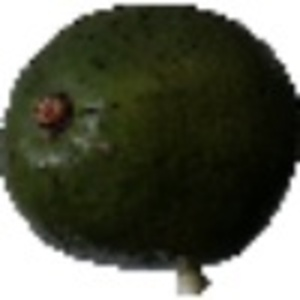abacate: (1, 6, 297, 273)
